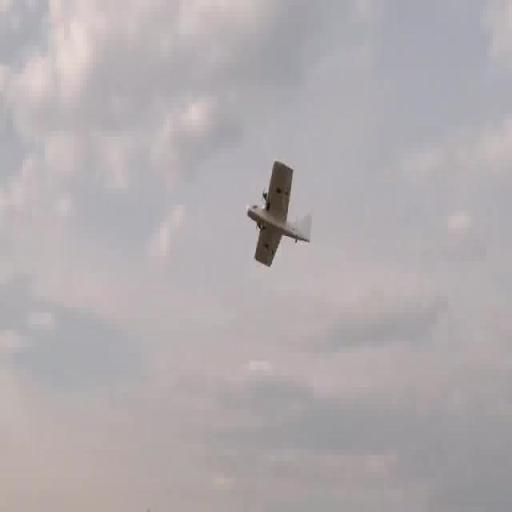uav: (245, 154, 313, 272)
